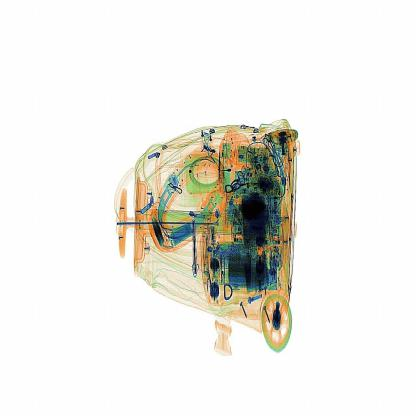knife: (185, 218, 200, 280)
